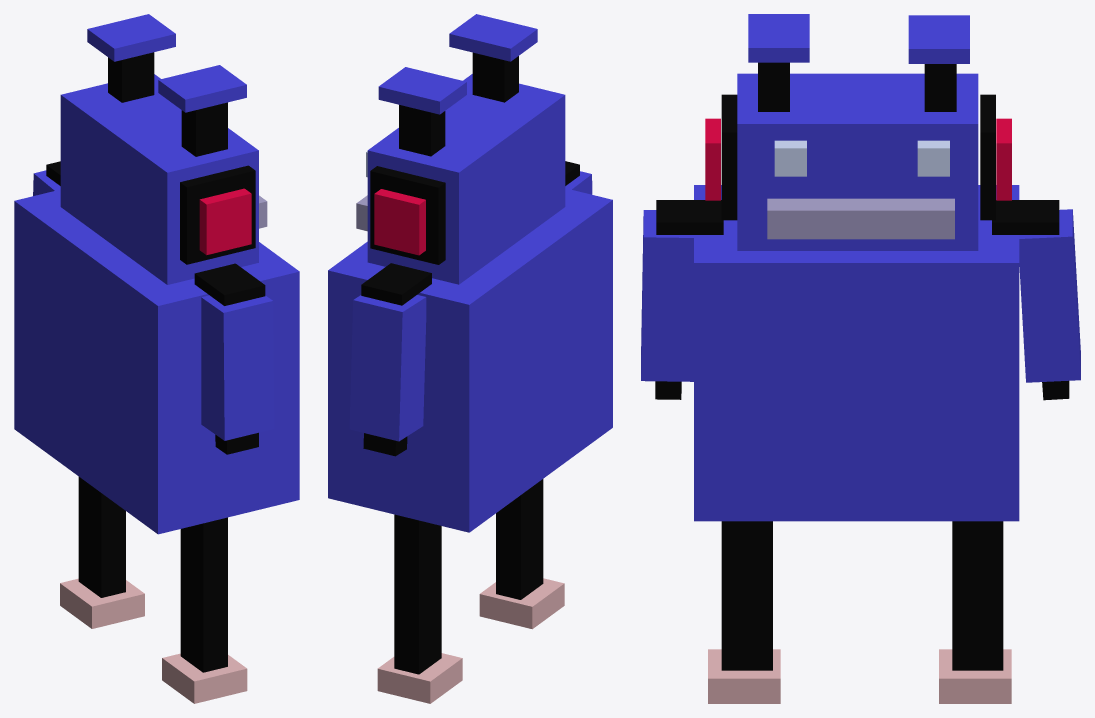
File: robo2.glb
3 renders of one model, left to right at view 1: azimuth 30°, elevation 25°; view 2: azimuth 150°, elevation 25°; view 3: azimuth 270°, elevation 25°, orthographic. The views are drawn at different scales.
Parts seen in each view (by area): view 1: Cube.002, Cube.005, Cube.004, Cube, Cube.001, Cube.018, Cube.022, Cube.021, Cube.020, Cube.007, Cube.006, Cube.019 (+4 smaller); view 2: Cube.002, Cube.005, Cube.003, Cube.001, Cube, Cube.017, Cube.023, Cube.020, Cube.021, Cube.006, Cube.007, Cube.013 (+3 smaller); view 3: Cube.002, Cube.005, Cube.003, Cube.004, Cube.014, Cube, Cube.001, Cube.020, Cube.021, Cube.006, Cube.007, Cube.012 (+9 smaller).
Part boxes in pixels (x1,y1,x2,y2): Cube.002: (14,189,299,534); Cube.005: (60,74,258,284); Cube.004: (201,295,274,440); Cube: (180,517,227,672); Cube.001: (78,476,125,597); Cube.018: (180,165,255,264); Cube.022: (199,188,251,255); Cube.021: (87,14,175,61); Cube.020: (158,65,246,112); Cube.007: (162,653,247,703); Cube.006: (60,578,144,628); Cube.019: (181,102,227,156); Cube.002: (328,188,612,532); Cube.005: (367,74,565,284); Cube.003: (349,295,426,441); Cube.001: (394,514,441,674); Cube: (496,479,543,599); Cube.017: (370,166,445,264); Cube.023: (374,189,425,255); Cube.020: (449,14,537,61); Cube.021: (378,67,466,114); Cube.006: (377,653,462,703); Cube.007: (479,578,564,629); Cube.013: (361,263,431,305); Cube.002: (694,185,1019,521); Cube.005: (737,73,978,250); Cube.003: (1019,209,1080,382); Cube.004: (641,210,693,381); Cube.014: (767,198,954,239); Cube: (721,521,772,670); Cube.001: (952,521,1003,670); Cube.020: (748,14,809,62); Cube.021: (908,15,969,63); Cube.006: (939,649,1011,703); Cube.007: (708,649,780,703); Cube.012: (656,200,723,234).
Bounding box in the file's own units: 1.15 × 4.56 × 2.73.
